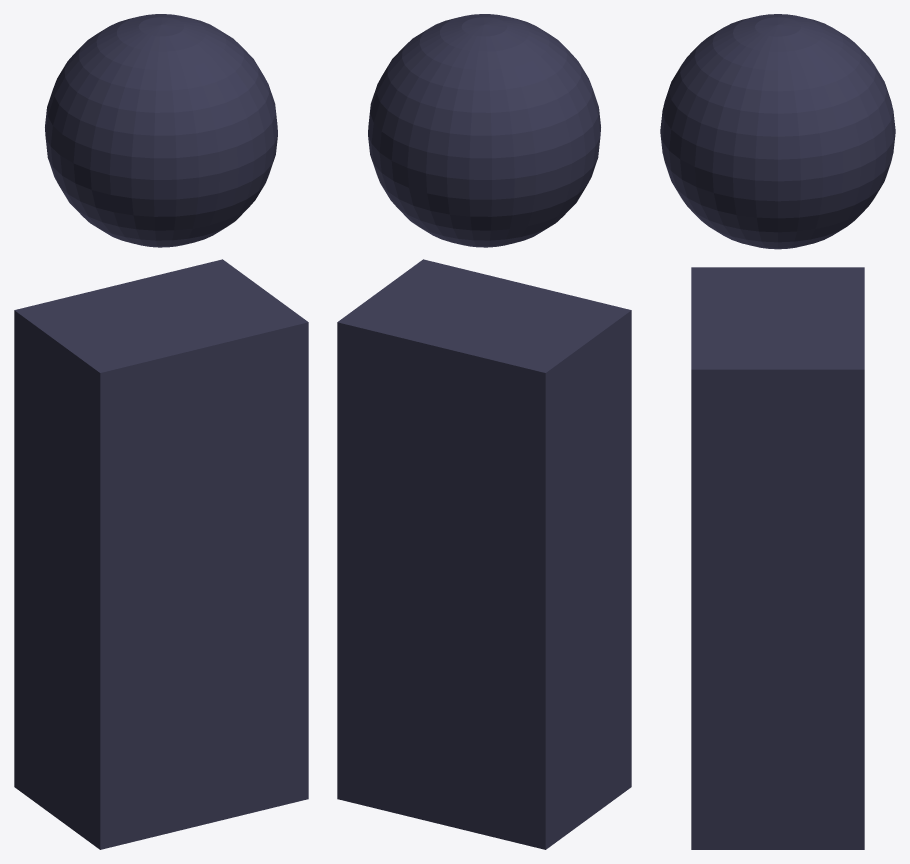
The model's file is monster_shadow.glb.
3 views of the same model, side by side, from view 1: azimuth 30°, elevation 25°; view 2: azimuth 150°, elevation 25°; view 3: azimuth 270°, elevation 25° (orthographic).
Visible parts, largest first — view 1: monster_shadow; view 2: monster_shadow; view 3: monster_shadow.
Part boxes in pixels (box(x1,y1,x2,y2)): monster_shadow: box(14, 14, 308, 849); monster_shadow: box(337, 14, 631, 849); monster_shadow: box(660, 14, 895, 849).
Bounding box in the file's own units: 0.35 × 1.23 × 0.34.
